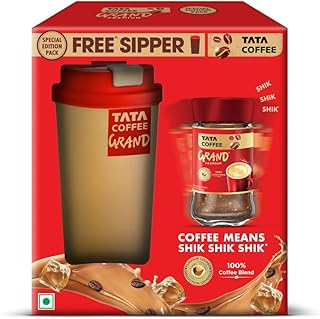Coffee: (31, 1, 290, 316)
